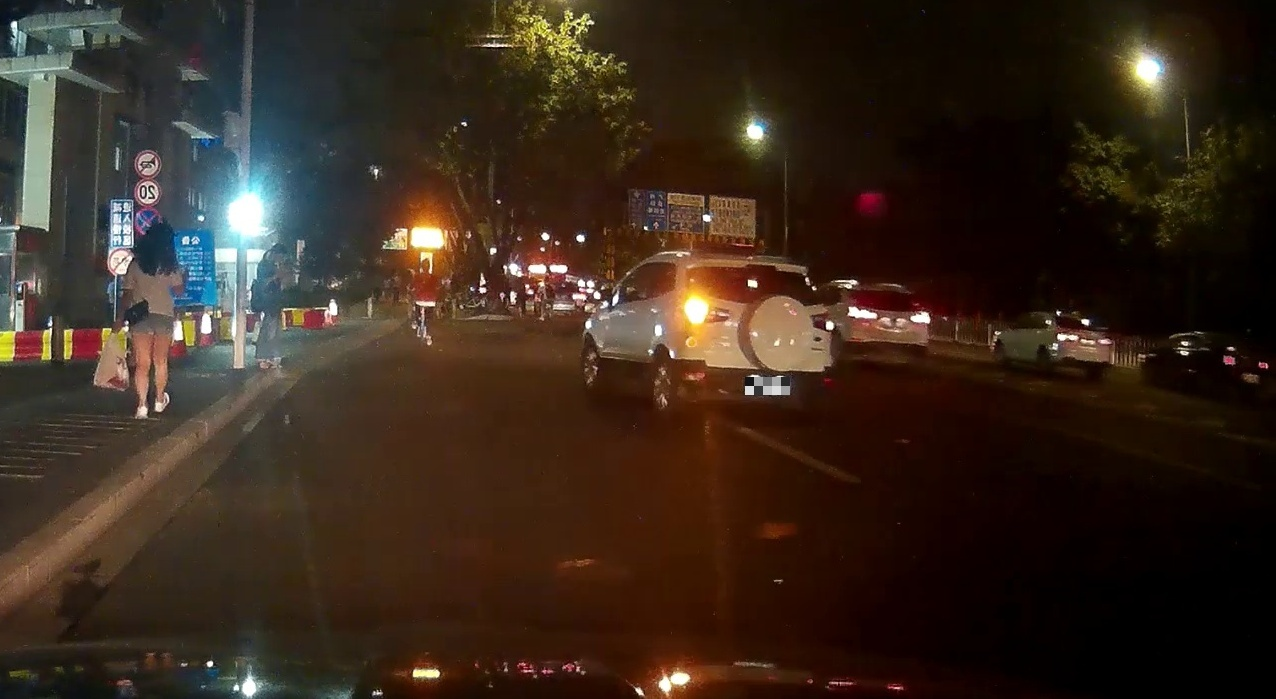L_light: (685, 301, 730, 325), (847, 306, 878, 321), (1056, 332, 1079, 342)
R_light: (810, 310, 834, 332), (909, 312, 931, 324), (1096, 337, 1112, 345)
T_light: (746, 264, 776, 273), (882, 289, 898, 294), (1069, 317, 1079, 321)
night-left: (678, 252, 835, 414)
night-no: (842, 279, 931, 367), (1049, 313, 1113, 379)
plate_1: (745, 377, 790, 395)
